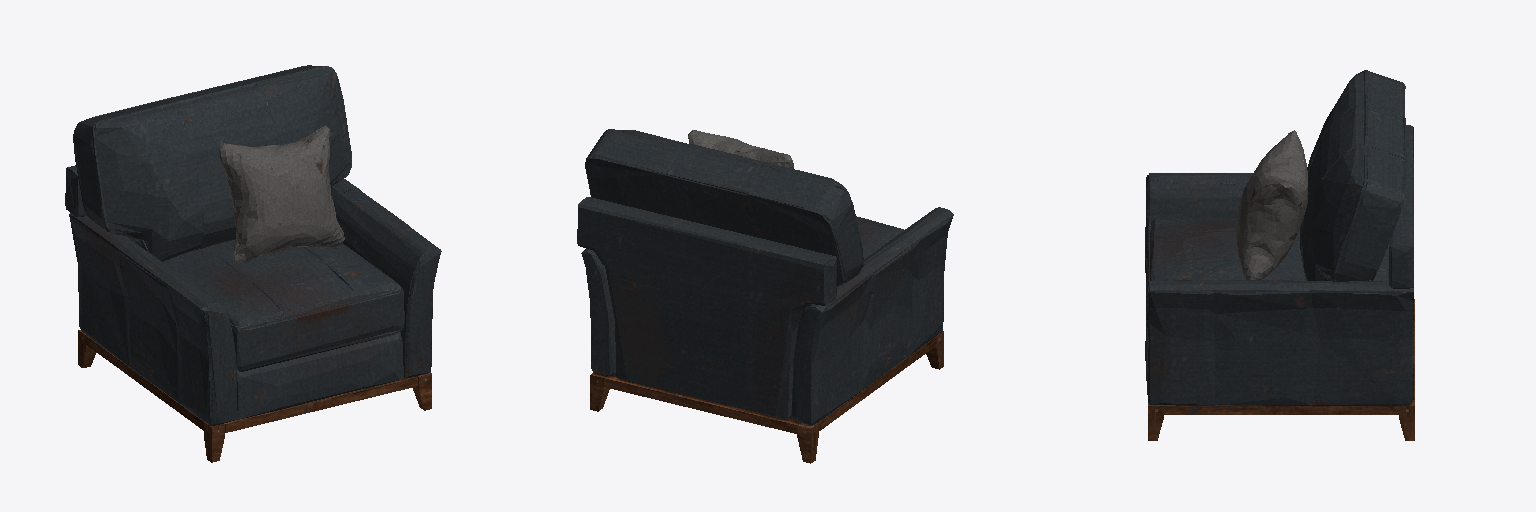
The picture shows the model from 3 angles: view 1: azimuth 30°, elevation 25°; view 2: azimuth 150°, elevation 25°; view 3: azimuth 270°, elevation 25°; orthographic projection.
Visible parts, largest first — view 1: sidenie001_Mesh.017_lambert2; view 2: sidenie001_Mesh.017_lambert2; view 3: sidenie001_Mesh.017_lambert2.
Boxes of the visible parts, <box> form: sidenie001_Mesh.017_lambert2: <box>65,65,441,462</box>; sidenie001_Mesh.017_lambert2: <box>577,129,953,463</box>; sidenie001_Mesh.017_lambert2: <box>1145,70,1414,440</box>.
Bounding box in the file's own units: 0.8386 × 0.8389 × 0.7786.
Materials: 1 (1 with a texture image).